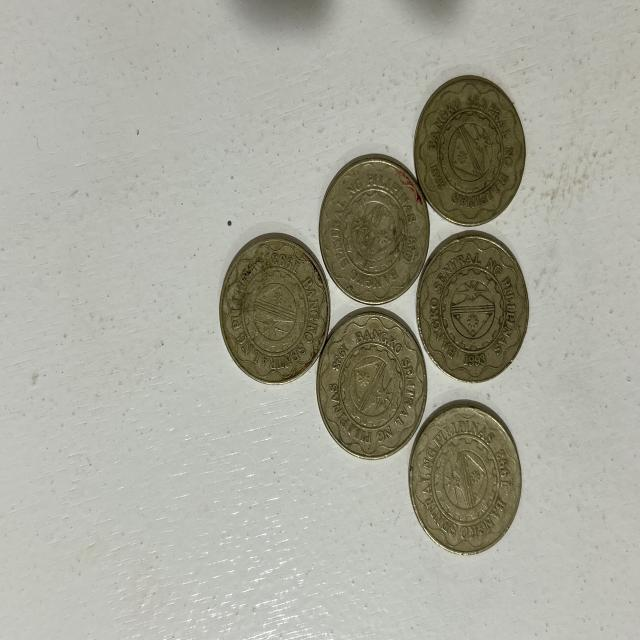5_Old_Back: (316, 151, 428, 304), (411, 77, 524, 222), (410, 402, 518, 548), (424, 226, 525, 382), (316, 311, 421, 455), (222, 233, 325, 379)
